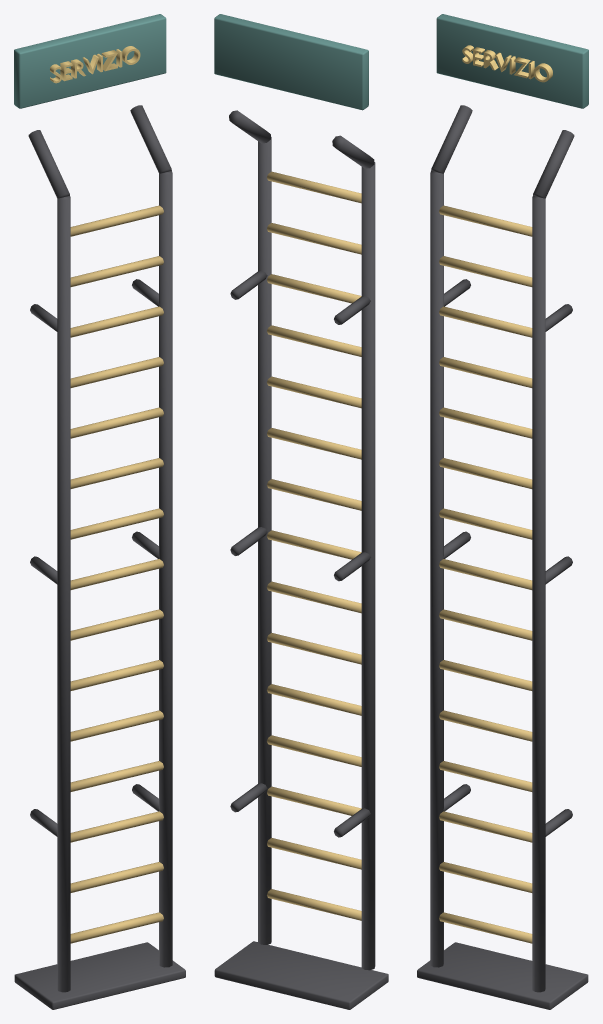
Rendered from scala_pioli.glb.
The picture shows the model from 3 angles, left to right: view 1: azimuth 30°, elevation 25°; view 2: azimuth 150°, elevation 25°; view 3: azimuth 330°, elevation 25°; orthographic projection.
Parts seen in each view (by area): view 1: montante_-1, montante_1, targa, base, targa_testo, uscita_1, uscita_-1, piolo_0, piolo_2, piolo_14, piolo_4, piolo_12 (+10 smaller); view 2: montante_-1, montante_1, targa, base, piolo_4, piolo_10, piolo_11, piolo_3, piolo_6, piolo_8, piolo_13, piolo_14 (+15 smaller); view 3: montante_1, montante_-1, targa, base, targa_testo, uscita_-1, uscita_1, piolo_0, piolo_2, piolo_14, piolo_4, piolo_12 (+10 smaller).
Boxes of the visible parts, <box> form: montante_-1: <box>57,195,70,992</box>; montante_1: <box>159,171,172,967</box>; targa: <box>14,14,166,108</box>; base: <box>14,942,185,1009</box>; targa_testo: <box>50,46,140,83</box>; uscita_1: <box>130,105,171,173</box>; uscita_-1: <box>28,130,69,198</box>; piolo_0: <box>70,912,163,943</box>; piolo_2: <box>70,811,163,842</box>; piolo_14: <box>70,205,163,236</box>; piolo_4: <box>70,710,163,741</box>; piolo_12: <box>70,306,163,337</box>; montante_-1: <box>361,162,375,970</box>; montante_1: <box>258,137,271,944</box>; targa: <box>214,14,368,110</box>; base: <box>214,941,388,1009</box>; piolo_4: <box>267,684,361,715</box>; piolo_10: <box>267,376,361,408</box>; piolo_11: <box>267,325,361,356</box>; piolo_3: <box>267,735,361,766</box>; piolo_6: <box>267,581,361,613</box>; piolo_8: <box>267,479,361,510</box>; piolo_13: <box>267,223,361,254</box>; piolo_14: <box>267,171,361,203</box>; montante_1: <box>532,195,545,992</box>; montante_-1: <box>430,171,443,967</box>; targa: <box>436,14,588,108</box>; base: <box>417,942,588,1009</box>; targa_testo: <box>462,45,552,82</box>; uscita_-1: <box>431,105,472,173</box>; uscita_1: <box>533,130,574,198</box>; piolo_0: <box>439,912,532,943</box>; piolo_2: <box>439,811,532,842</box>; piolo_14: <box>439,205,532,236</box>; piolo_4: <box>439,710,532,741</box>; piolo_12: <box>439,306,532,337</box>.
Bounding box in the file's own units: 1.1 × 6.7 × 0.5.
